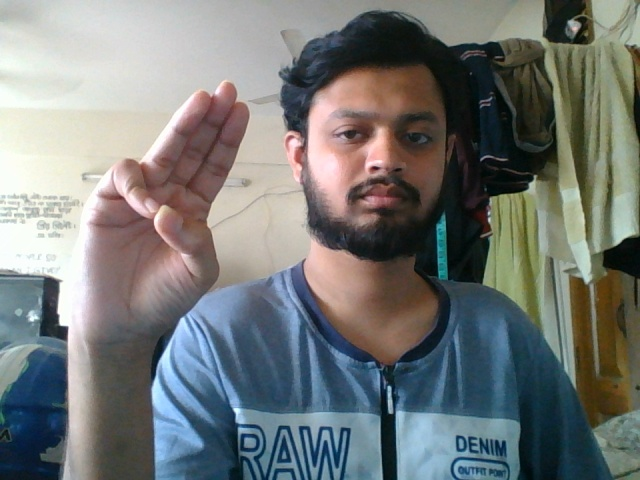ma: (64, 73, 255, 380)
